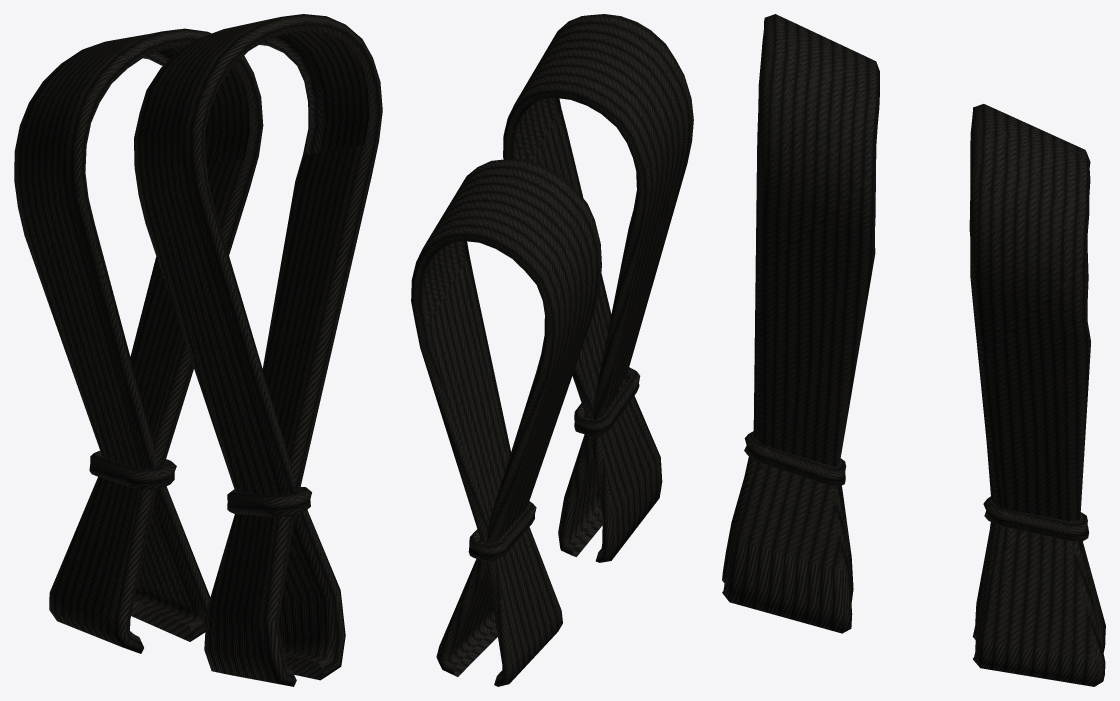
Rendered from Stays_Mesh.fbx.
The picture shows the model from 3 angles, left to right: view 1: azimuth 30°, elevation 25°; view 2: azimuth 150°, elevation 25°; view 3: azimuth 270°, elevation 25°; orthographic projection. The views are drawn at different scales.
Visible parts, largest first — view 1: Stays; view 2: Stays; view 3: Stays.
Part boxes in pixels (box(x1,y1,x2,y2)): Stays: box(14, 14, 382, 686); Stays: box(411, 14, 693, 686); Stays: box(722, 14, 1105, 686).
Bounding box in the file's own units: 88.78 × 322 × 173.
